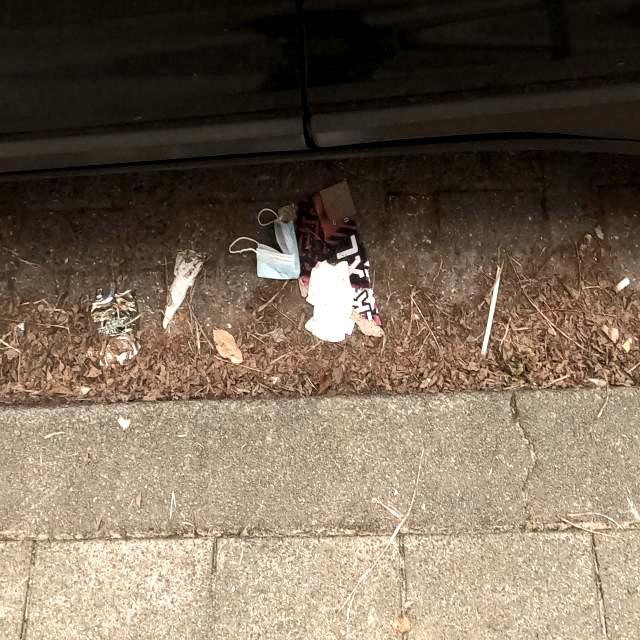Mask: (228, 206, 300, 282)
Metal: (88, 281, 140, 364)
Paper: (304, 258, 356, 344), (162, 247, 204, 331)
